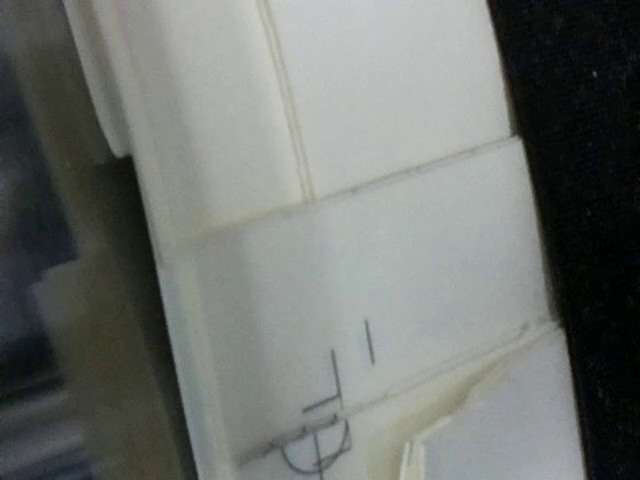misaligned: (235, 349, 355, 479)
